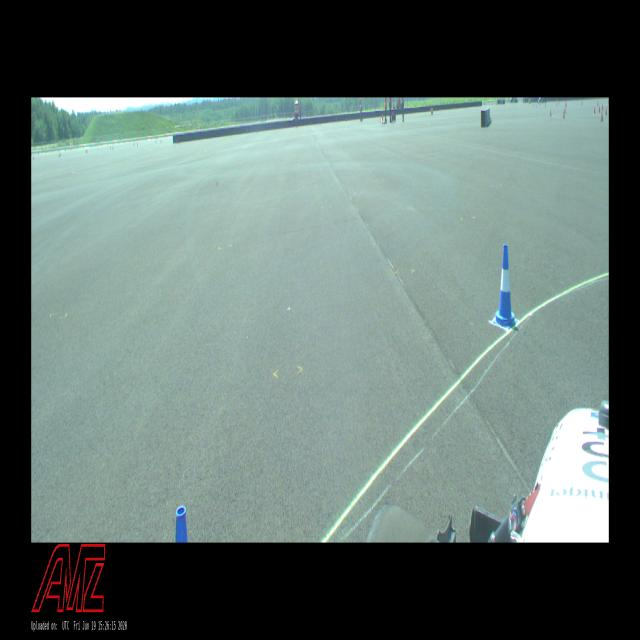blue_cone: (493, 244, 517, 329)
